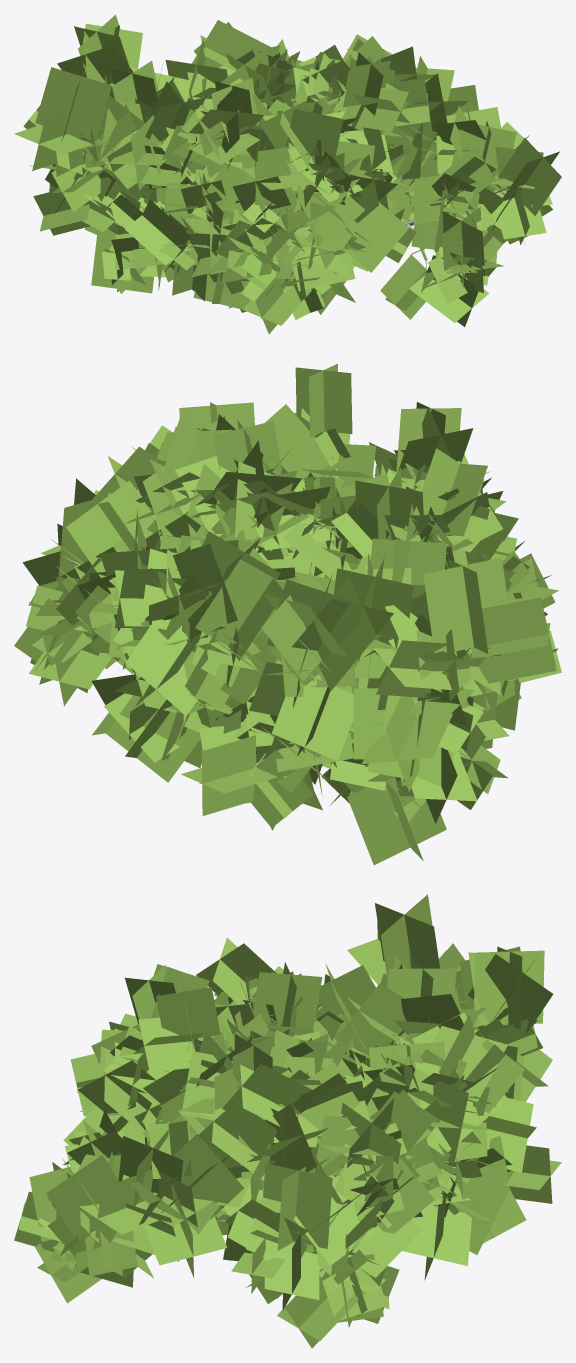
The model's file is bush_c.glb.
3 views of the same model, one above another, from view 1: azimuth 30°, elevation 25°; view 2: azimuth 150°, elevation 25°; view 3: azimuth 270°, elevation 25° (orthographic). The views are drawn at different scales.
Parts seen in each view (by area): view 1: leaves; view 2: leaves; view 3: leaves.
Boxes of the visible parts, left/top/right/bottom form: leaves: left=14, top=14, right=561, bottom=333; leaves: left=14, top=363, right=561, bottom=865; leaves: left=14, top=894, right=561, bottom=1348.
Bounding box in the file's own units: 35.07 × 20.29 × 31.55.
